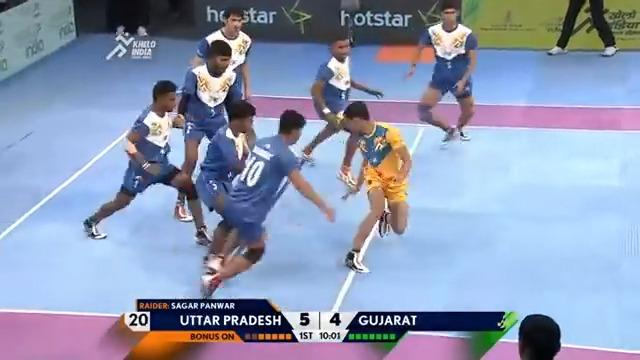Player: (198, 108, 335, 298), (82, 79, 212, 245), (301, 31, 384, 182), (173, 38, 238, 222), (195, 99, 260, 266), (404, 3, 478, 143), (191, 5, 252, 106)
Raider: (333, 101, 412, 275)
referee: (546, 0, 618, 57)
